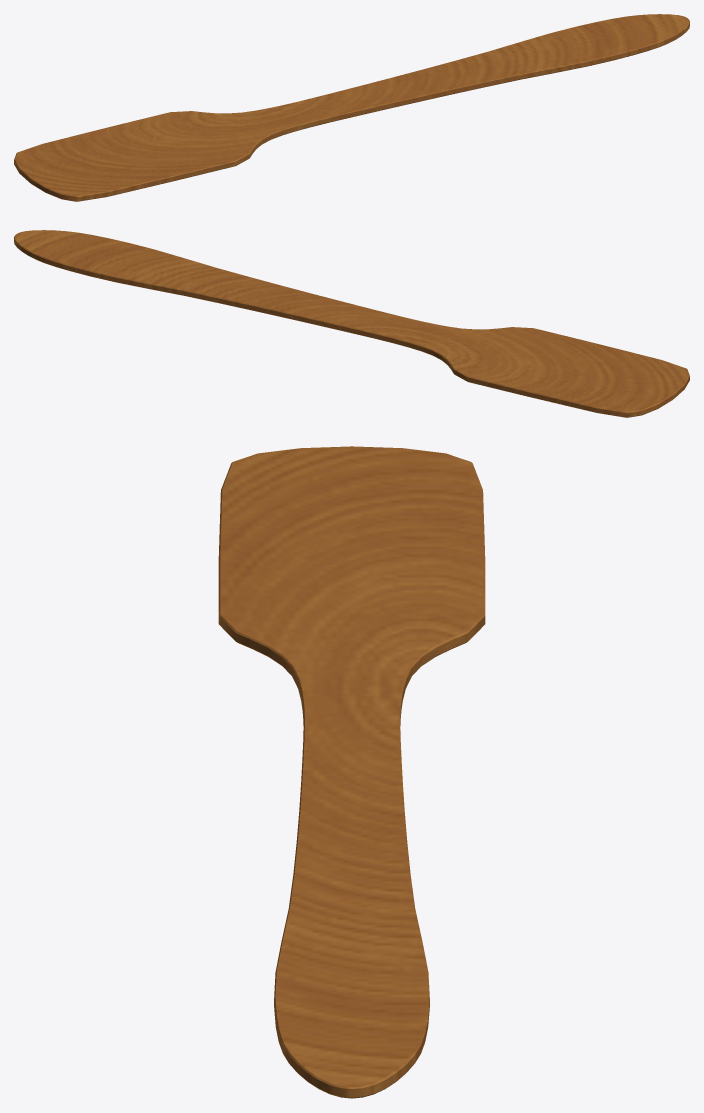
The model's file is AAH_woodenspoon.glb.
3 views of the same model, one above another, from view 1: azimuth 30°, elevation 25°; view 2: azimuth 150°, elevation 25°; view 3: azimuth 270°, elevation 25° (orthographic). The views are drawn at different scales.
Parts seen in each view (by area): view 1: woodenSpoon_uv; view 2: woodenSpoon_uv; view 3: woodenSpoon_uv.
Boxes of the visible parts, x1,y1,x2,y2 form: woodenSpoon_uv: (14,14,689,201); woodenSpoon_uv: (14,230,689,417); woodenSpoon_uv: (218,446,485,1098).
Bounding box in the file's own units: 11.53 × 0.0951 × 2.02.
Materials: 1 (1 with a texture image).
